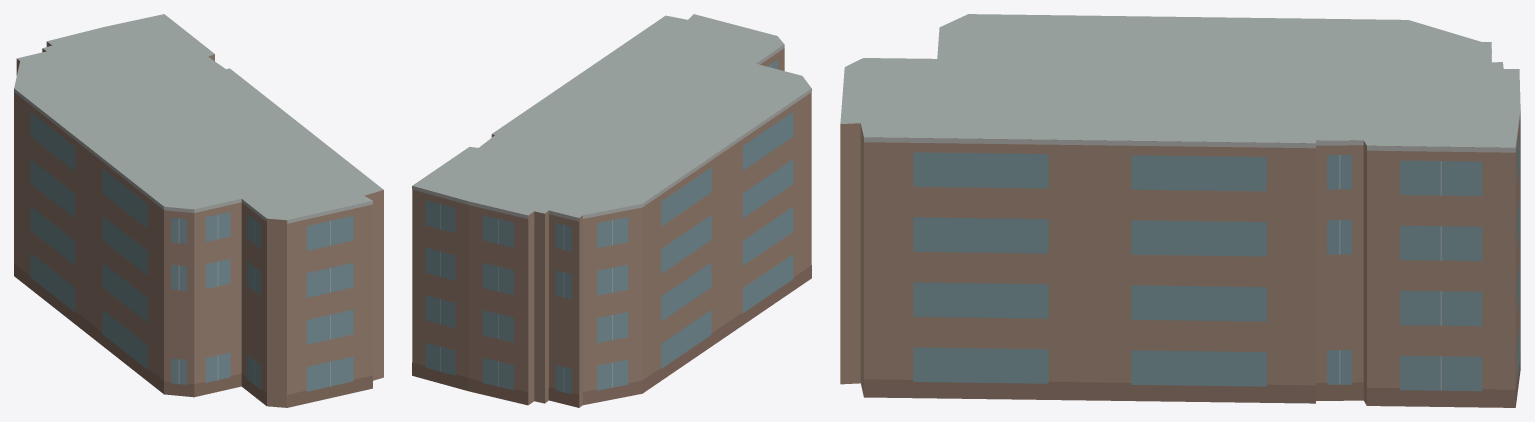
File: survey-upis-32629865.glb
3 renders of one model, left to right at view 1: azimuth 30°, elevation 25°; view 2: azimuth 150°, elevation 25°; view 3: azimuth 270°, elevation 25°, orthographic. The views are drawn at different scales.
Parts seen in each view (by area): view 1: survey-upis-32629865.tmp; view 2: survey-upis-32629865.tmp; view 3: survey-upis-32629865.tmp.
Boxes of the visible parts, bbox=[...] form: survey-upis-32629865.tmp: bbox=[14, 14, 383, 407]; survey-upis-32629865.tmp: bbox=[412, 14, 811, 407]; survey-upis-32629865.tmp: bbox=[840, 14, 1520, 407].
Bounding box in the file's own units: 14 × 12.7 × 30.1.
